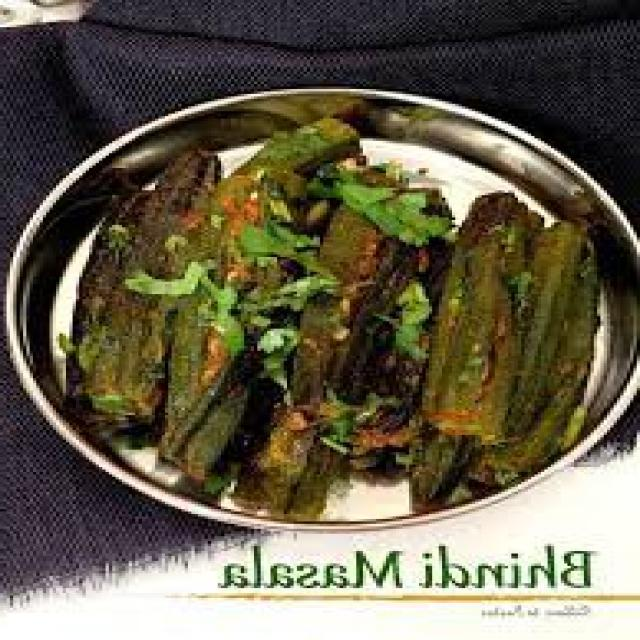Bhindi Masala: (57, 121, 615, 525)
